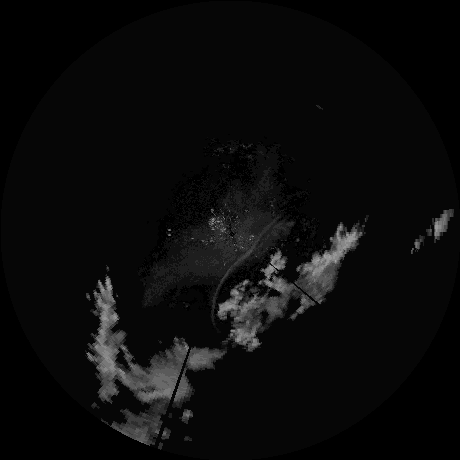frontgust: (211, 216, 278, 319)
